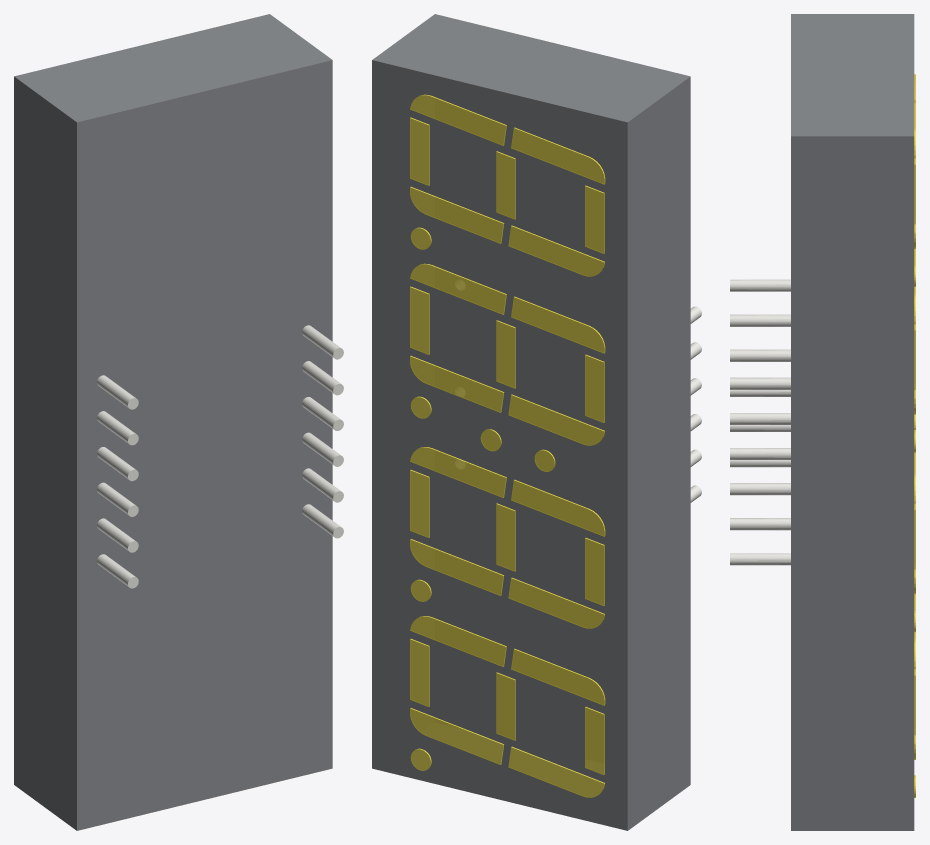
The model's file is CA56-12SYKWA.glb.
3 renders of one model, left to right at view 1: azimuth 30°, elevation 25°; view 2: azimuth 150°, elevation 25°; view 3: azimuth 270°, elevation 25°, orthographic.
Parts seen in each view (by area): view 1: Shape_IndexedFaceSet.193, Shape_IndexedFaceSet.005, Shape_IndexedFaceSet.003, Shape_IndexedFaceSet.157, Shape_IndexedFaceSet.153; view 2: Shape_IndexedFaceSet.002, Shape_IndexedFaceSet.005, Shape_IndexedFaceSet.003, Shape_IndexedFaceSet.157, Shape_IndexedFaceSet.153, Shape_IndexedFaceSet.184, Shape_IndexedFaceSet.189, Shape_IndexedFaceSet.183, Shape_IndexedFaceSet.162, Shape_IndexedFaceSet.173, Shape_IndexedFaceSet.174, Shape_IndexedFaceSet.178 (+21 smaller); view 3: Shape_IndexedFaceSet.004, Shape_IndexedFaceSet.156, Shape_IndexedFaceSet.003, Shape_IndexedFaceSet.153, Shape_IndexedFaceSet.194, Shape_IndexedFaceSet.195, Shape_IndexedFaceSet.196, Shape_IndexedFaceSet.199, Shape_IndexedFaceSet.200, Shape_IndexedFaceSet.204, Shape_IndexedFaceSet.205, Shape_IndexedFaceSet.197 (+4 smaller).
Boxes of the visible parts, x1,y1,x2,y2 form: Shape_IndexedFaceSet.193: [77, 64, 332, 826]; Shape_IndexedFaceSet.005: [14, 76, 76, 830]; Shape_IndexedFaceSet.003: [14, 14, 331, 122]; Shape_IndexedFaceSet.157: [61, 142, 76, 810]; Shape_IndexedFaceSet.153: [88, 55, 315, 118]; Shape_IndexedFaceSet.002: [372, 60, 627, 830]; Shape_IndexedFaceSet.005: [627, 77, 690, 830]; Shape_IndexedFaceSet.003: [372, 14, 690, 122]; Shape_IndexedFaceSet.157: [675, 96, 690, 765]; Shape_IndexedFaceSet.153: [446, 18, 673, 80]; Shape_IndexedFaceSet.184: [511, 297, 604, 353]; Shape_IndexedFaceSet.189: [511, 128, 604, 184]; Shape_IndexedFaceSet.183: [410, 264, 505, 314]; Shape_IndexedFaceSet.162: [511, 480, 604, 536]; Shape_IndexedFaceSet.173: [508, 578, 604, 628]; Shape_IndexedFaceSet.174: [511, 649, 604, 705]; Shape_IndexedFaceSet.178: [508, 747, 604, 797]; Shape_IndexedFaceSet.004: [791, 136, 914, 830]; Shape_IndexedFaceSet.156: [791, 156, 821, 811]; Shape_IndexedFaceSet.003: [791, 14, 914, 136]; Shape_IndexedFaceSet.153: [791, 21, 821, 128]; Shape_IndexedFaceSet.194: [730, 553, 790, 565]; Shape_IndexedFaceSet.195: [730, 518, 790, 530]; Shape_IndexedFaceSet.196: [730, 483, 790, 495]; Shape_IndexedFaceSet.199: [730, 314, 790, 326]; Shape_IndexedFaceSet.200: [730, 349, 790, 361]; Shape_IndexedFaceSet.204: [730, 279, 790, 291]; Shape_IndexedFaceSet.205: [730, 377, 790, 389]; Shape_IndexedFaceSet.197: [730, 448, 790, 459].
Size of the model in its own units: 7.48 by 19.8 by 4.8.
